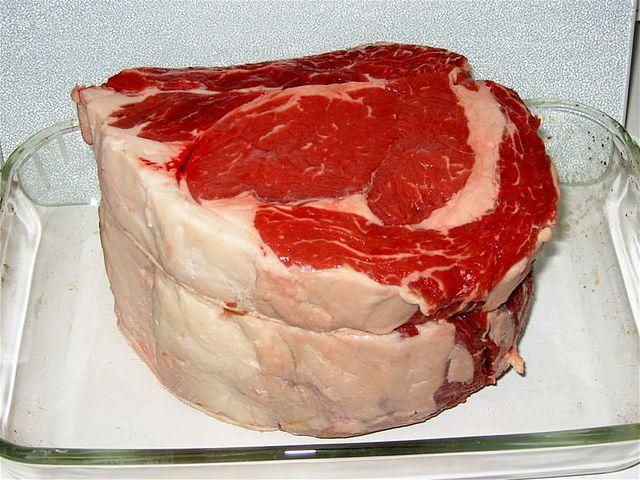beef: (98, 31, 559, 317)
